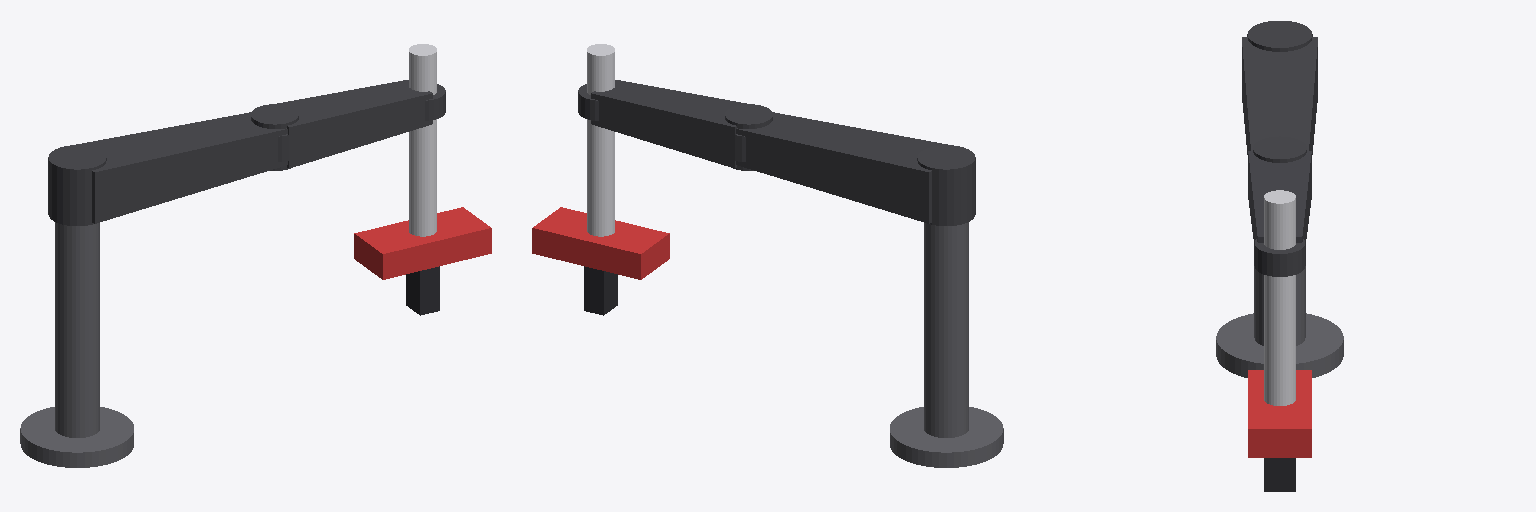
robot.urdf — scara_robot:
<?xml version="1.0"?>
<robot name="scara_robot">

  <!-- ============ World + fixed base ============ -->
  <link name="world"/>
  <joint name="fixed" type="fixed">
    <parent link="world"/>
    <child link="base_link"/>
  </joint>

  <!-- ============ base_link: vertical column, length 0.5 ============ -->
  <link name="base_link">
    <visual>
      <geometry><mesh filename="package://scara_pkg/meshes/base_link.dae"/></geometry>
      <origin xyz="0 0 0"/>
    </visual>
    <collision>
      <geometry><cylinder length="0.5" radius="0.05"/></geometry>
      <origin xyz="0 0 0.25"/>
    </collision>
  </link>

  <!-- ============ joint_1 (R) — base rotation, vertical axis ============ -->
  <joint name="joint_1" type="revolute">
    <parent link="base_link"/>
    <child link="link1"/>
    <origin xyz="0 0 0.5"/>            <!-- top of column -->
    <axis xyz="0 0 1"/>
    <limit effort="300" velocity="2.0" lower="-3.14" upper="3.14"/>
  </joint>

  <!-- ============ link1: horizontal arm, length 0.4 ============ -->
  <link name="link1">
    <visual>
      <geometry><mesh filename="package://scara_pkg/meshes/link1.dae"/></geometry>
      <origin xyz="0 0 0"/>
    </visual>
    <collision>
      <geometry><box size="0.4 0.1 0.1"/></geometry>
      <origin xyz="0.2 0 0"/>
    </collision>
  </link>

  <!-- ============ joint_2 (R) — elbow, vertical axis ============
       NOTE: NO rpy attribute on origin. This is the SCARA difference
       from Week 4's robot, which had rpy="1.57079633 0 0" making the
       elbow swing in a vertical plane. We want horizontal. -->
  <joint name="joint_2" type="revolute">
    <parent link="link1"/>
    <child link="link2"/>
    <origin xyz="0.4 0 0"/>             <!-- end of link1 -->
    <axis xyz="0 0 1"/>
    <limit effort="300" velocity="2.0" lower="-3.14" upper="3.14"/>
  </joint>

  <!-- ============ link2: horizontal arm, length 0.3 ============ -->
  <link name="link2">
    <visual>
      <geometry><mesh filename="package://scara_pkg/meshes/link2.dae"/></geometry>
      <origin xyz="0 0 0"/>
    </visual>
    <collision>
      <geometry><box size="0.3 0.1 0.1"/></geometry>
      <origin xyz="0.15 0 0"/>
    </collision>
  </link>

  <!-- ============ joint_3 (P) — vertical prismatic, going DOWN ============
       rpy="3.14159 0 0" rotates the joint frame 180° about x so its
       z-axis points down. The axis is then 0 0 1 in this rotated frame,
       i.e. downward in world. Positive joint values therefore extend
       the wrist downward, matching the arrow in the brief.
       Stroke: 0.2 (retracted) to 0.4 (fully extended). -->
  <joint name="joint_3" type="prismatic">
    <parent link="link2"/>
    <child link="link3"/>
    <origin xyz="0.3 0 0" rpy="3.14159 0 0"/>
    <axis xyz="0 0 1"/>
    <limit effort="300" velocity="0.5" lower="0.2" upper="0.4"/>
  </joint>

  <!-- ============ link3: short shaft / wrist mount ============
       In link3's frame, +z points down (because joint_3 flipped it). -->
  <link name="link3">
    <visual>
      <geometry><mesh filename="package://scara_pkg/meshes/link3.dae"/></geometry>
      <origin xyz="0 0 0"/>
    </visual>
    <collision>
      <geometry><cylinder length="0.1" radius="0.03"/></geometry>
      <origin xyz="0 0 0.05"/>
    </collision>
  </link>

  <!-- ============ joint_4 (R) — wrist roll ============
       Inherits link3's flipped frame. Its z-axis points down,
       which is still vertical, so this rotates the gripper about
       the world-vertical axis. -->
  <joint name="joint_4" type="revolute">
    <parent link="link3"/>
    <child link="hand"/>
    <origin xyz="0 0 -0.05"/>
    <axis xyz="0 0 1"/>
    <limit effort="300" velocity="2.0" lower="-3.14" upper="3.14"/>
  </joint>

  <!-- ============ hand + fingers ============
       In hand frame, +z points down (gripper hangs below joint_4).
       Fingers slide along hand's x-axis (perpendicular to z),
       parting horizontally to grip a cube placed below. -->
  <link name="hand">
    <visual>
      <geometry><mesh filename="package://scara_pkg/meshes/hand.dae"/></geometry>
      <origin xyz="0 0 0"/>
    </visual>
    <collision>
      <geometry><box size="0.1 0.1 0.05"/></geometry>
      <origin xyz="0 0 0.025"/>
    </collision>
  </link>

  <!-- finger1: slides along +x. At joint=0, inner edge of finger1
       sits at hand_x=0. At joint=0.11, gap is 0.22 — meets the
       brief's "≥ 0.2 when fully open" requirement. -->
  <joint name="finger1_joint" type="prismatic">
    <parent link="hand"/>
    <child link="finger1"/>
    <origin xyz="0 0 0.05" rpy="0 1.57079633 0"/>
    <axis xyz="0 0 1"/>
    <limit effort="300" velocity="0.5" lower="0.0" upper="0.11"/>
</joint>
  <link name="finger1">
    <visual>
      <geometry><mesh filename="package://scara_pkg/meshes/finger.dae"/></geometry>
      <origin xyz="0 0 0" rpy="0 0 3.14159"/>
    </visual>
    <collision>
      <geometry><box size="0.02 0.05 0.1"/></geometry>
      <origin xyz="0.01 0 0.05"/>
    </collision>
  </link>

  <!-- finger2: mirrored along -x. -->
  <joint name="finger2_joint" type="prismatic">
    <parent link="hand"/>
    <child link="finger2"/>
    <origin xyz="0 0 0.05" rpy="0 -1.57079633 0"/>
    <axis xyz="0 0 1"/>
    <limit effort="300" velocity="0.5" lower="0.0" upper="0.11"/>
</joint>
  <link name="finger2">
    <visual>
      <geometry><mesh filename="package://scara_pkg/meshes/finger.dae"/></geometry>
      <origin xyz="0 0 0"/>
    </visual>
    <collision>
      <geometry><box size="0.02 0.05 0.1"/></geometry>
      <origin xyz="-0.01 0 0.05"/>
    </collision>
  </link>

</robot>

--- What the picture shows (computed from the rendered views, not written in the file) ---
Views: 3 orthographic renders of the robot side by side, from view 1: azimuth 30°, elevation 25°; view 2: azimuth 150°, elevation 25°; view 3: azimuth 270°, elevation 25°.
Robot: scara_robot — 8 links, 7 joints (3 revolute, 3 prismatic, 1 fixed); root link world; default pose: all joints at 0 but 1 set to mid-range because 0 is outside their limits (joint_3 = 0.3).
Links seen in each view (by area): view 1: link1, base_link, link2, hand, link3, finger2; view 2: link1, base_link, link2, hand, link3, finger2; view 3: link1, link2, link3, base_link, hand, finger1.
Link boxes in pixels (x1=…): link1: x1=48, y1=112, x2=288, y2=225; base_link: x1=20, y1=222, x2=133, y2=467; link2: x1=251, y1=80, x2=445, y2=170; hand: x1=354, y1=207, x2=491, y2=279; link3: x1=409, y1=44, x2=436, y2=236; finger2: x1=406, y1=269, x2=429, y2=315; link1: x1=735, y1=112, x2=975, y2=225; base_link: x1=890, y1=222, x2=1003, y2=467; link2: x1=578, y1=80, x2=772, y2=170; hand: x1=532, y1=207, x2=669, y2=279; link3: x1=587, y1=44, x2=614, y2=236; finger2: x1=594, y1=269, x2=617, y2=315; link1: x1=1242, y1=21, x2=1317, y2=154; link2: x1=1248, y1=136, x2=1311, y2=276; link3: x1=1264, y1=190, x2=1295, y2=405; base_link: x1=1216, y1=266, x2=1343, y2=377; hand: x1=1248, y1=370, x2=1311, y2=457; finger1: x1=1264, y1=458, x2=1295, y2=491.
Bounding box of the posed robot: 0.91 × 0.2 × 0.6 m (x, y, z).
7 mesh visuals loaded from 6 distinct referenced files (6 Collada DAE).
